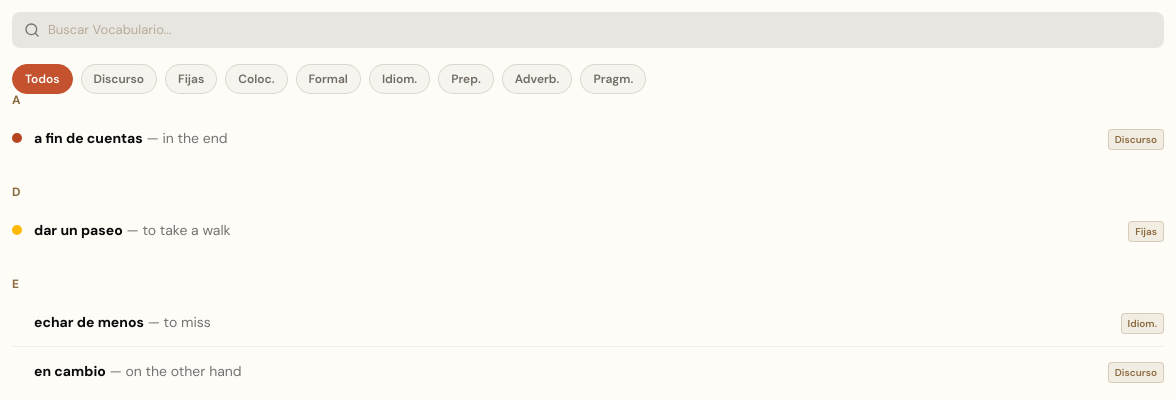
Test: VocabDirectory › shows empty state when no matches
The width and height of the screenshot is (1176, 400).
Type "zzzzz" into the search field with placeholder "Buscar Vocabulario...".
click(588, 30); type("zzzzz")  # box [12,12,1164,48]
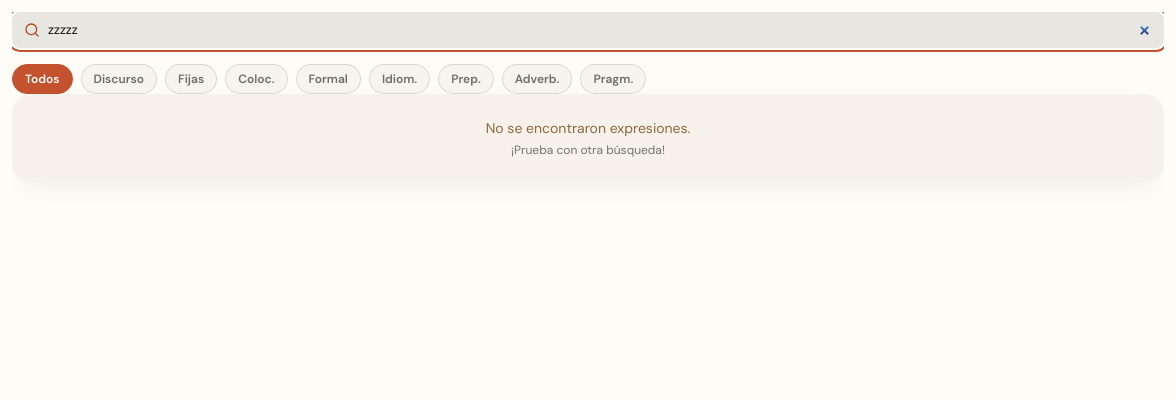
Now the text "No se encontraron expresiones." is shown, box [486,118,690,136]
Now the text "¡Prueba con otra búsqueda!" is shown, box [511,142,665,158]
